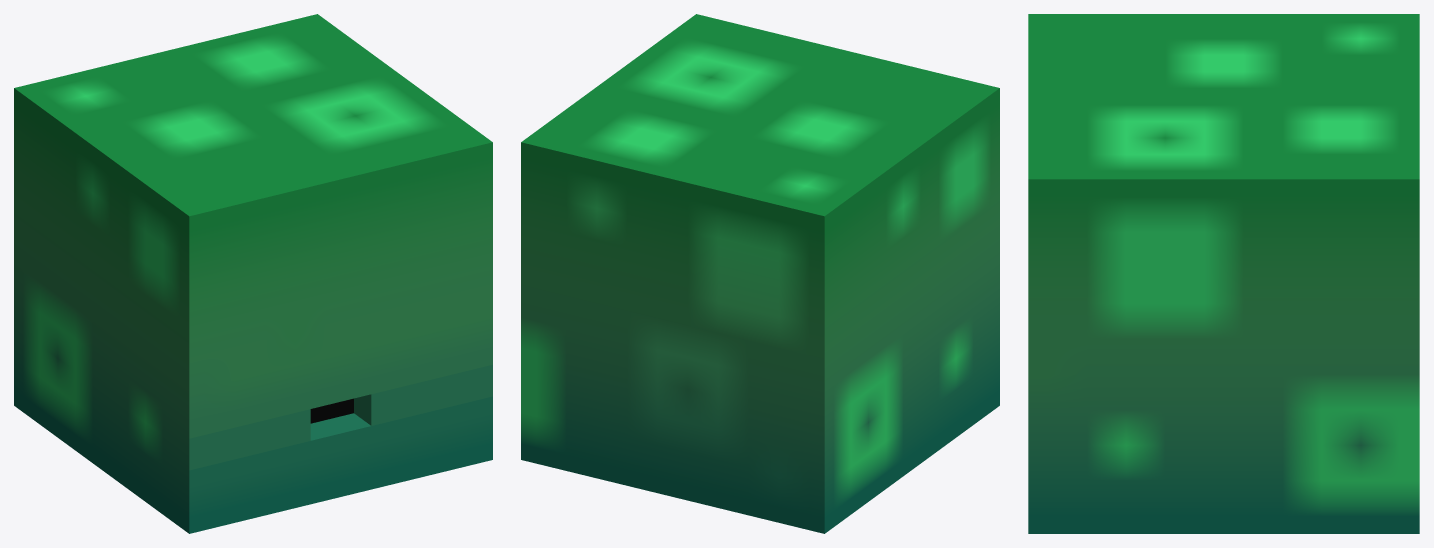
The model's file is slime_body.fbx.
The picture shows the model from 3 angles, left to right: view 1: azimuth 30°, elevation 25°; view 2: azimuth 150°, elevation 25°; view 3: azimuth 270°, elevation 25°; orthographic projection. The views are drawn at different scales.
Visible parts, largest first — view 1: slime_body; view 2: slime_body; view 3: slime_body.
Boxes of the visible parts, bbox=[...] form: slime_body: bbox=[14, 14, 492, 533]; slime_body: bbox=[521, 14, 999, 533]; slime_body: bbox=[1028, 14, 1419, 533].
Size of the model in its own units: 10 by 10 by 10.
Materials: 1 (1 with a texture image).
